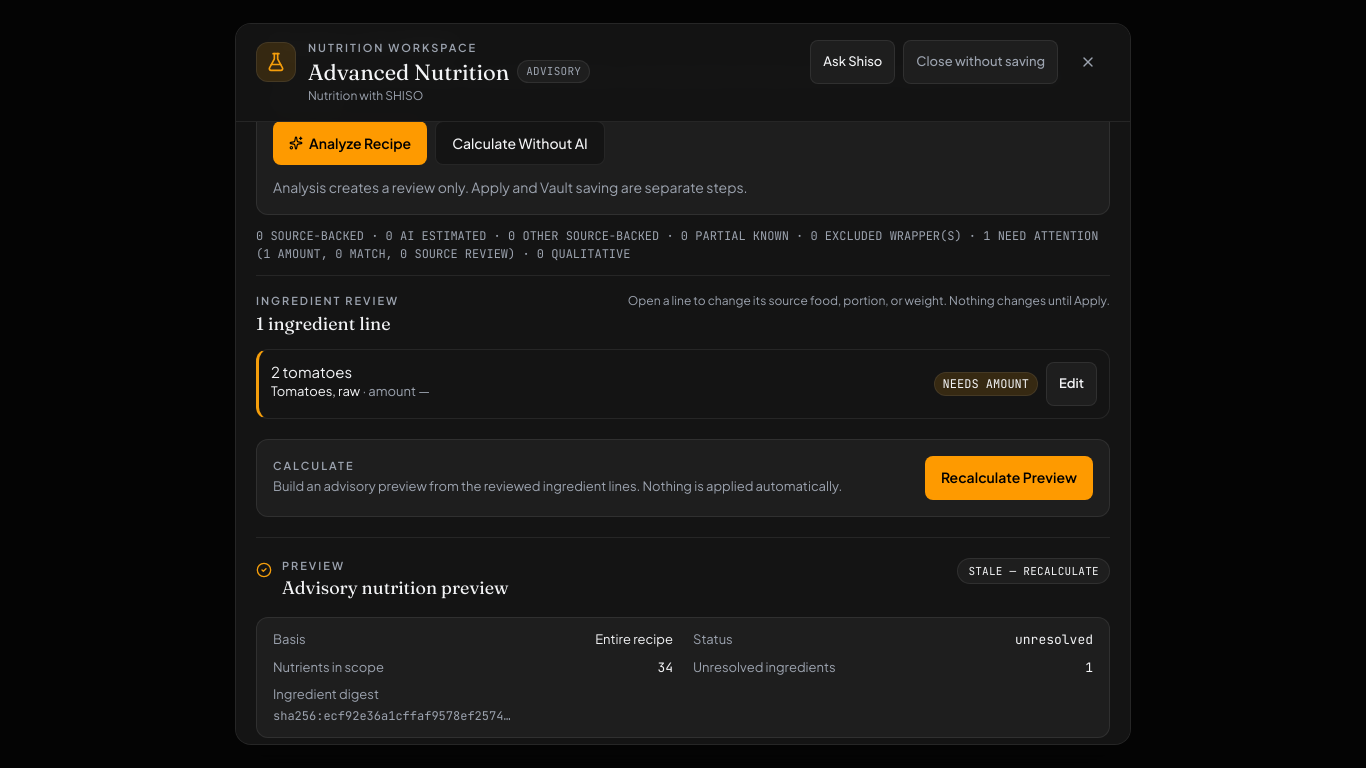
Test: phase 7 F-3 — Modal household grams are calculator/live verified › a rejected (tampered-selection) choice shows no grams, no MATCHED, and no household chip
This screenshot has width=1366, height=768.
(page scrolled)
Click the button "Edit" at (1072, 384), box 1046,362 -> 1097,406
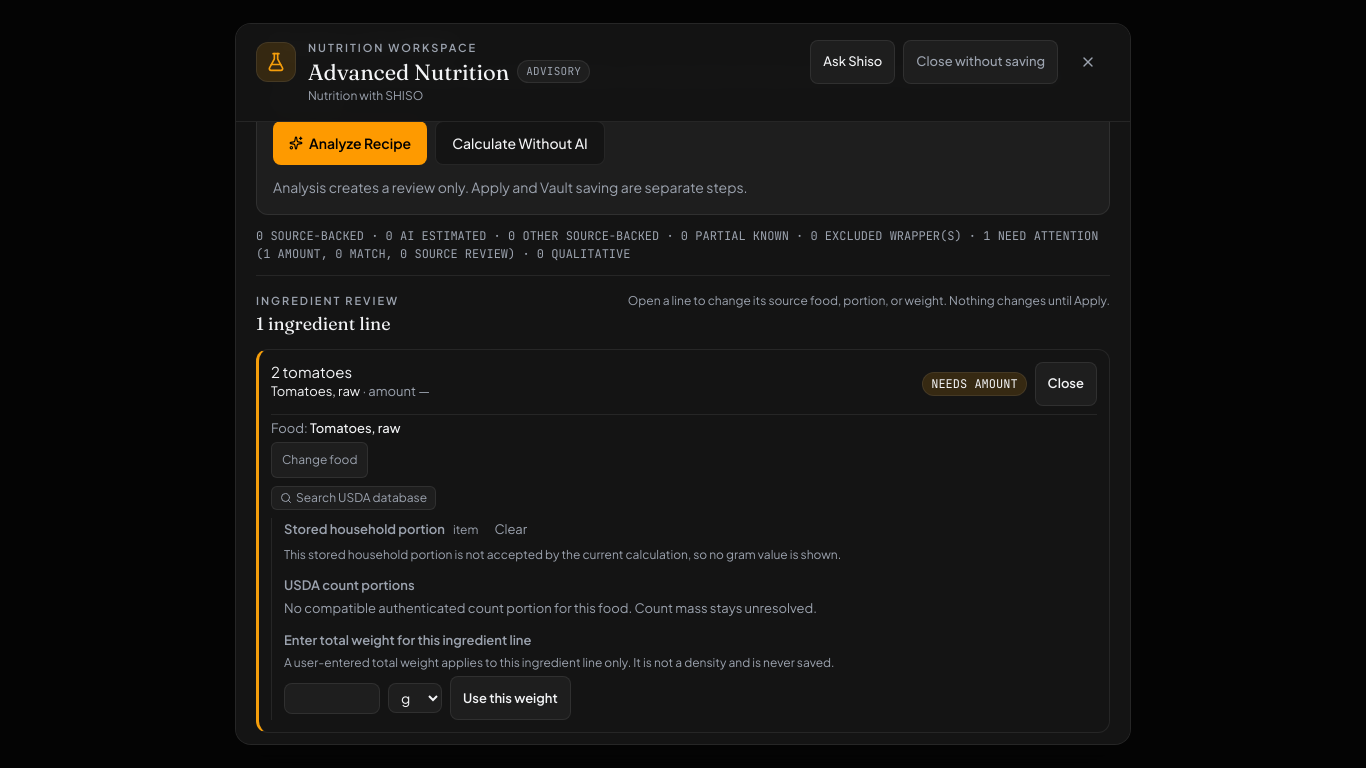
Check: the element with test id "advanced-nutrition-household-portion" shows "Stored household portion", box 284,521 -> 445,537
Check: the element with test id "advanced-nutrition-household-portion" shows "not accepted by the current calculation", box 284,547 -> 841,562
